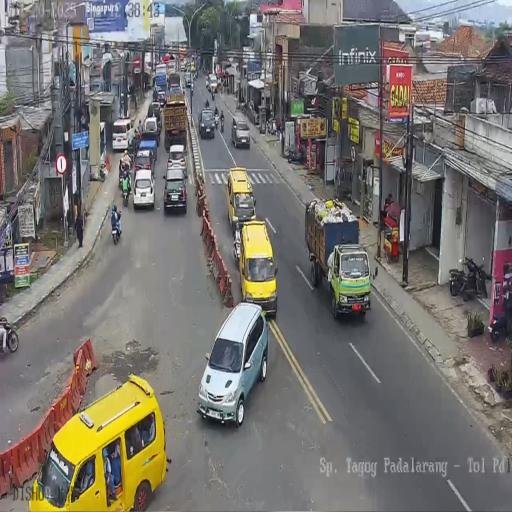car: (28, 376, 167, 510), (197, 304, 269, 426), (239, 222, 278, 316), (225, 166, 257, 234), (132, 170, 156, 211), (112, 118, 132, 154), (166, 144, 188, 176), (137, 137, 157, 169), (230, 118, 250, 149), (198, 108, 215, 139), (142, 116, 160, 144), (156, 90, 167, 108), (208, 76, 218, 95), (185, 74, 192, 88)
motorcycle: (448, 256, 490, 302), (490, 266, 512, 339), (286, 146, 304, 164), (111, 212, 121, 244), (214, 112, 219, 130), (152, 87, 158, 101), (220, 111, 224, 131), (190, 84, 194, 97)
truck: (306, 199, 368, 319), (164, 90, 190, 153), (155, 63, 168, 87), (168, 72, 181, 93), (167, 60, 176, 76), (180, 59, 186, 72)
